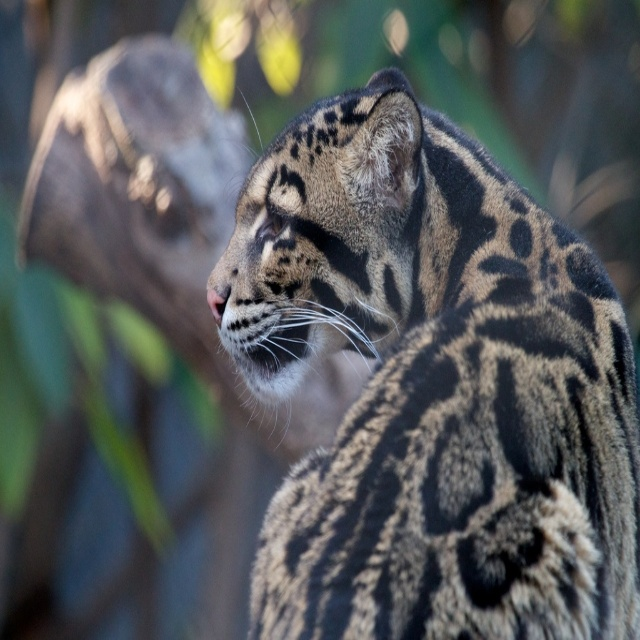Leopard: (207, 66, 640, 639)
